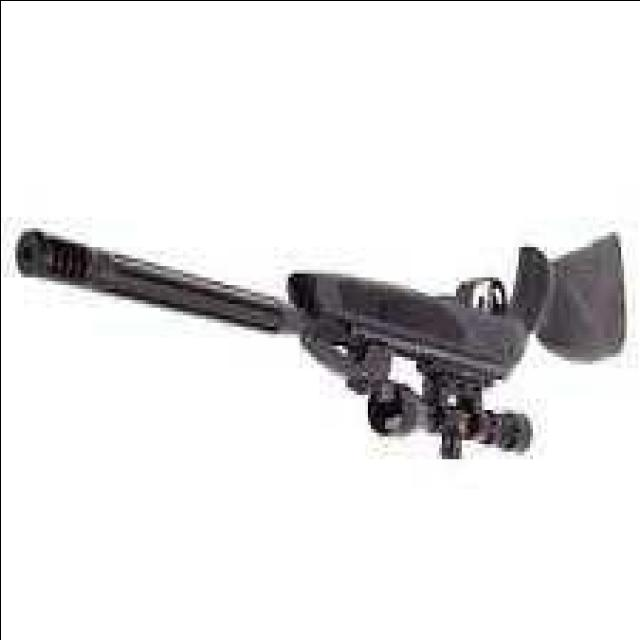heavyweapon: (7, 164, 633, 475)
